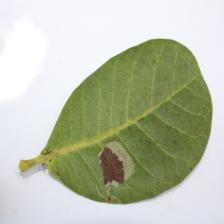leaf miner: (99, 143, 132, 190)
